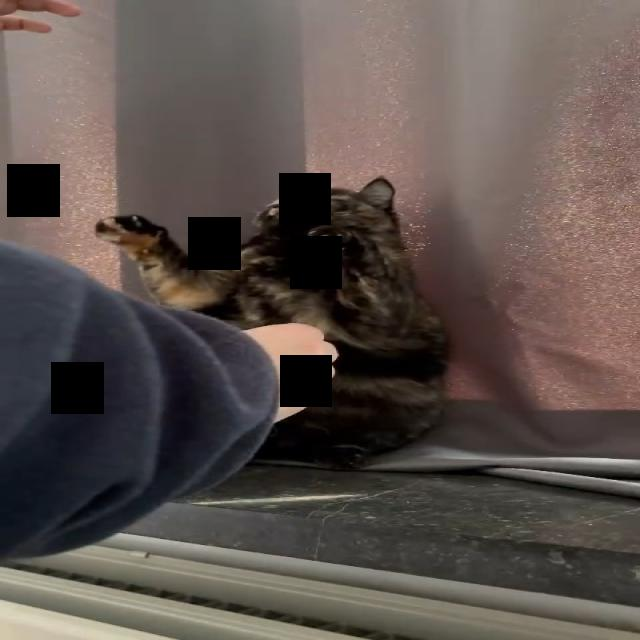authorized: (92, 175, 452, 470)
